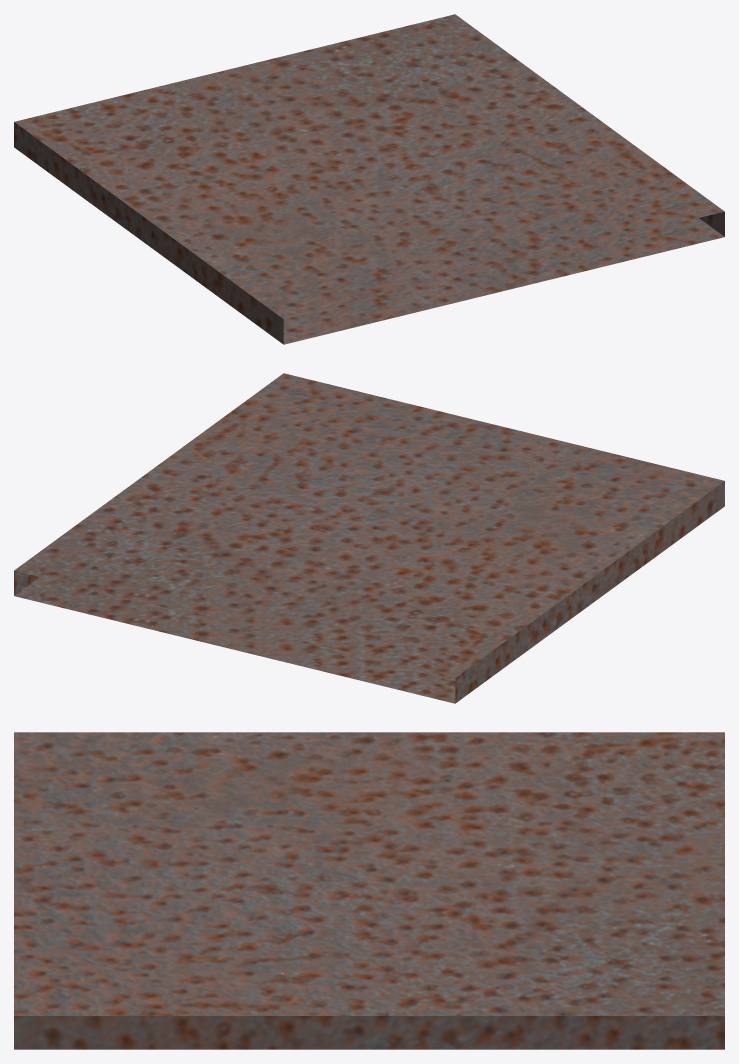
File: SM_NeoLD_05_Metal_00.002.fbx
The picture shows the model from 3 angles, top to bottom: view 1: azimuth 30°, elevation 25°; view 2: azimuth 150°, elevation 25°; view 3: azimuth 270°, elevation 25°; orthographic projection. The views are drawn at different scales.
Parts seen in each view (by area): view 1: SM_NeoLD_05_Metal_00.002; view 2: SM_NeoLD_05_Metal_00.002; view 3: SM_NeoLD_05_Metal_00.002.
Part boxes in pixels (x1,y1,x2,y2): SM_NeoLD_05_Metal_00.002: (14,14,724,344); SM_NeoLD_05_Metal_00.002: (14,373,724,703); SM_NeoLD_05_Metal_00.002: (14,732,724,1049).
Size of the model in its own units: 300 by 16.55 by 318.
